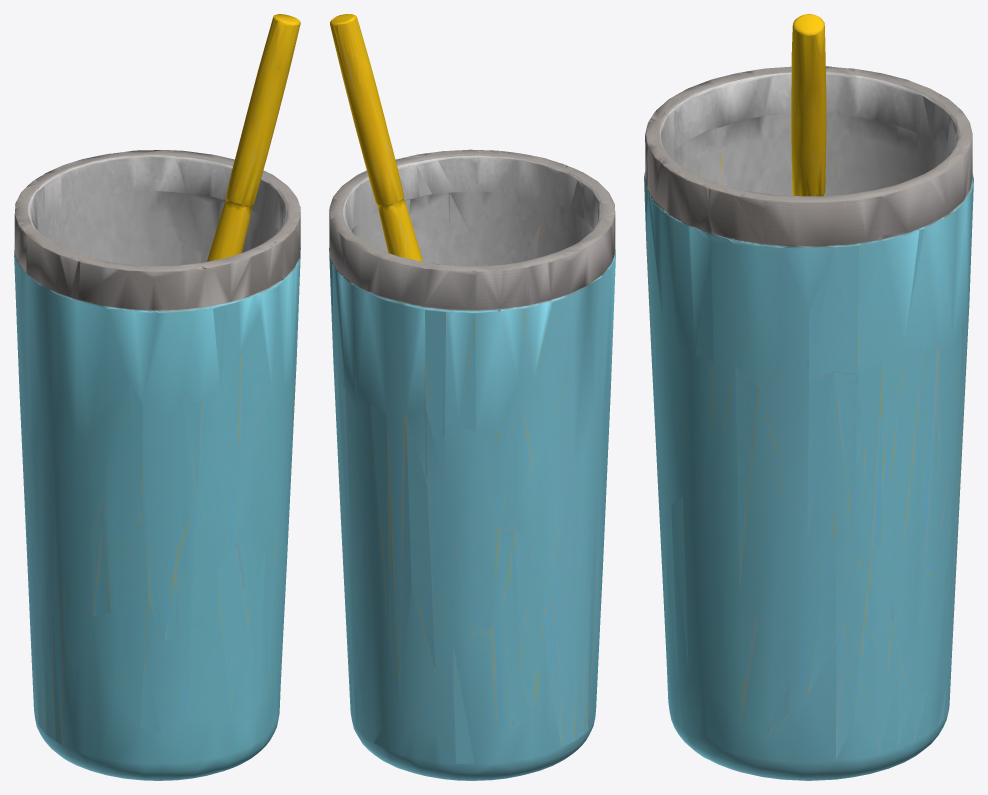
File: addy_cup.obj
3 renders of one model, left to right at view 1: azimuth 30°, elevation 25°; view 2: azimuth 150°, elevation 25°; view 3: azimuth 270°, elevation 25°, orthographic. The views are drawn at different scales.
Visible parts, largest first — view 1: model; view 2: model; view 3: model.
Boxes of the visible parts, box(x1,y1,x2,y2) form: model: box(14, 14, 300, 780); model: box(329, 14, 615, 780); model: box(644, 14, 973, 780).
Size of the model in its own units: 0.7605 by 1.9 by 0.7236.
